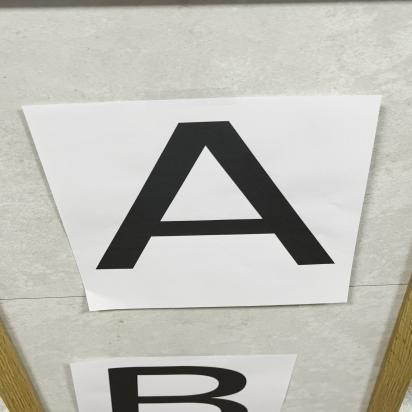seat: (74, 110, 363, 281)
